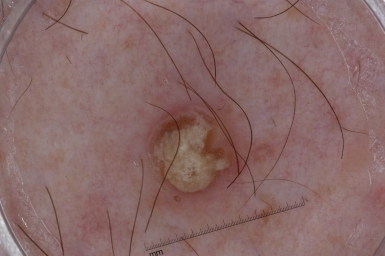seborrheic keratosis: (143, 104, 241, 208)
